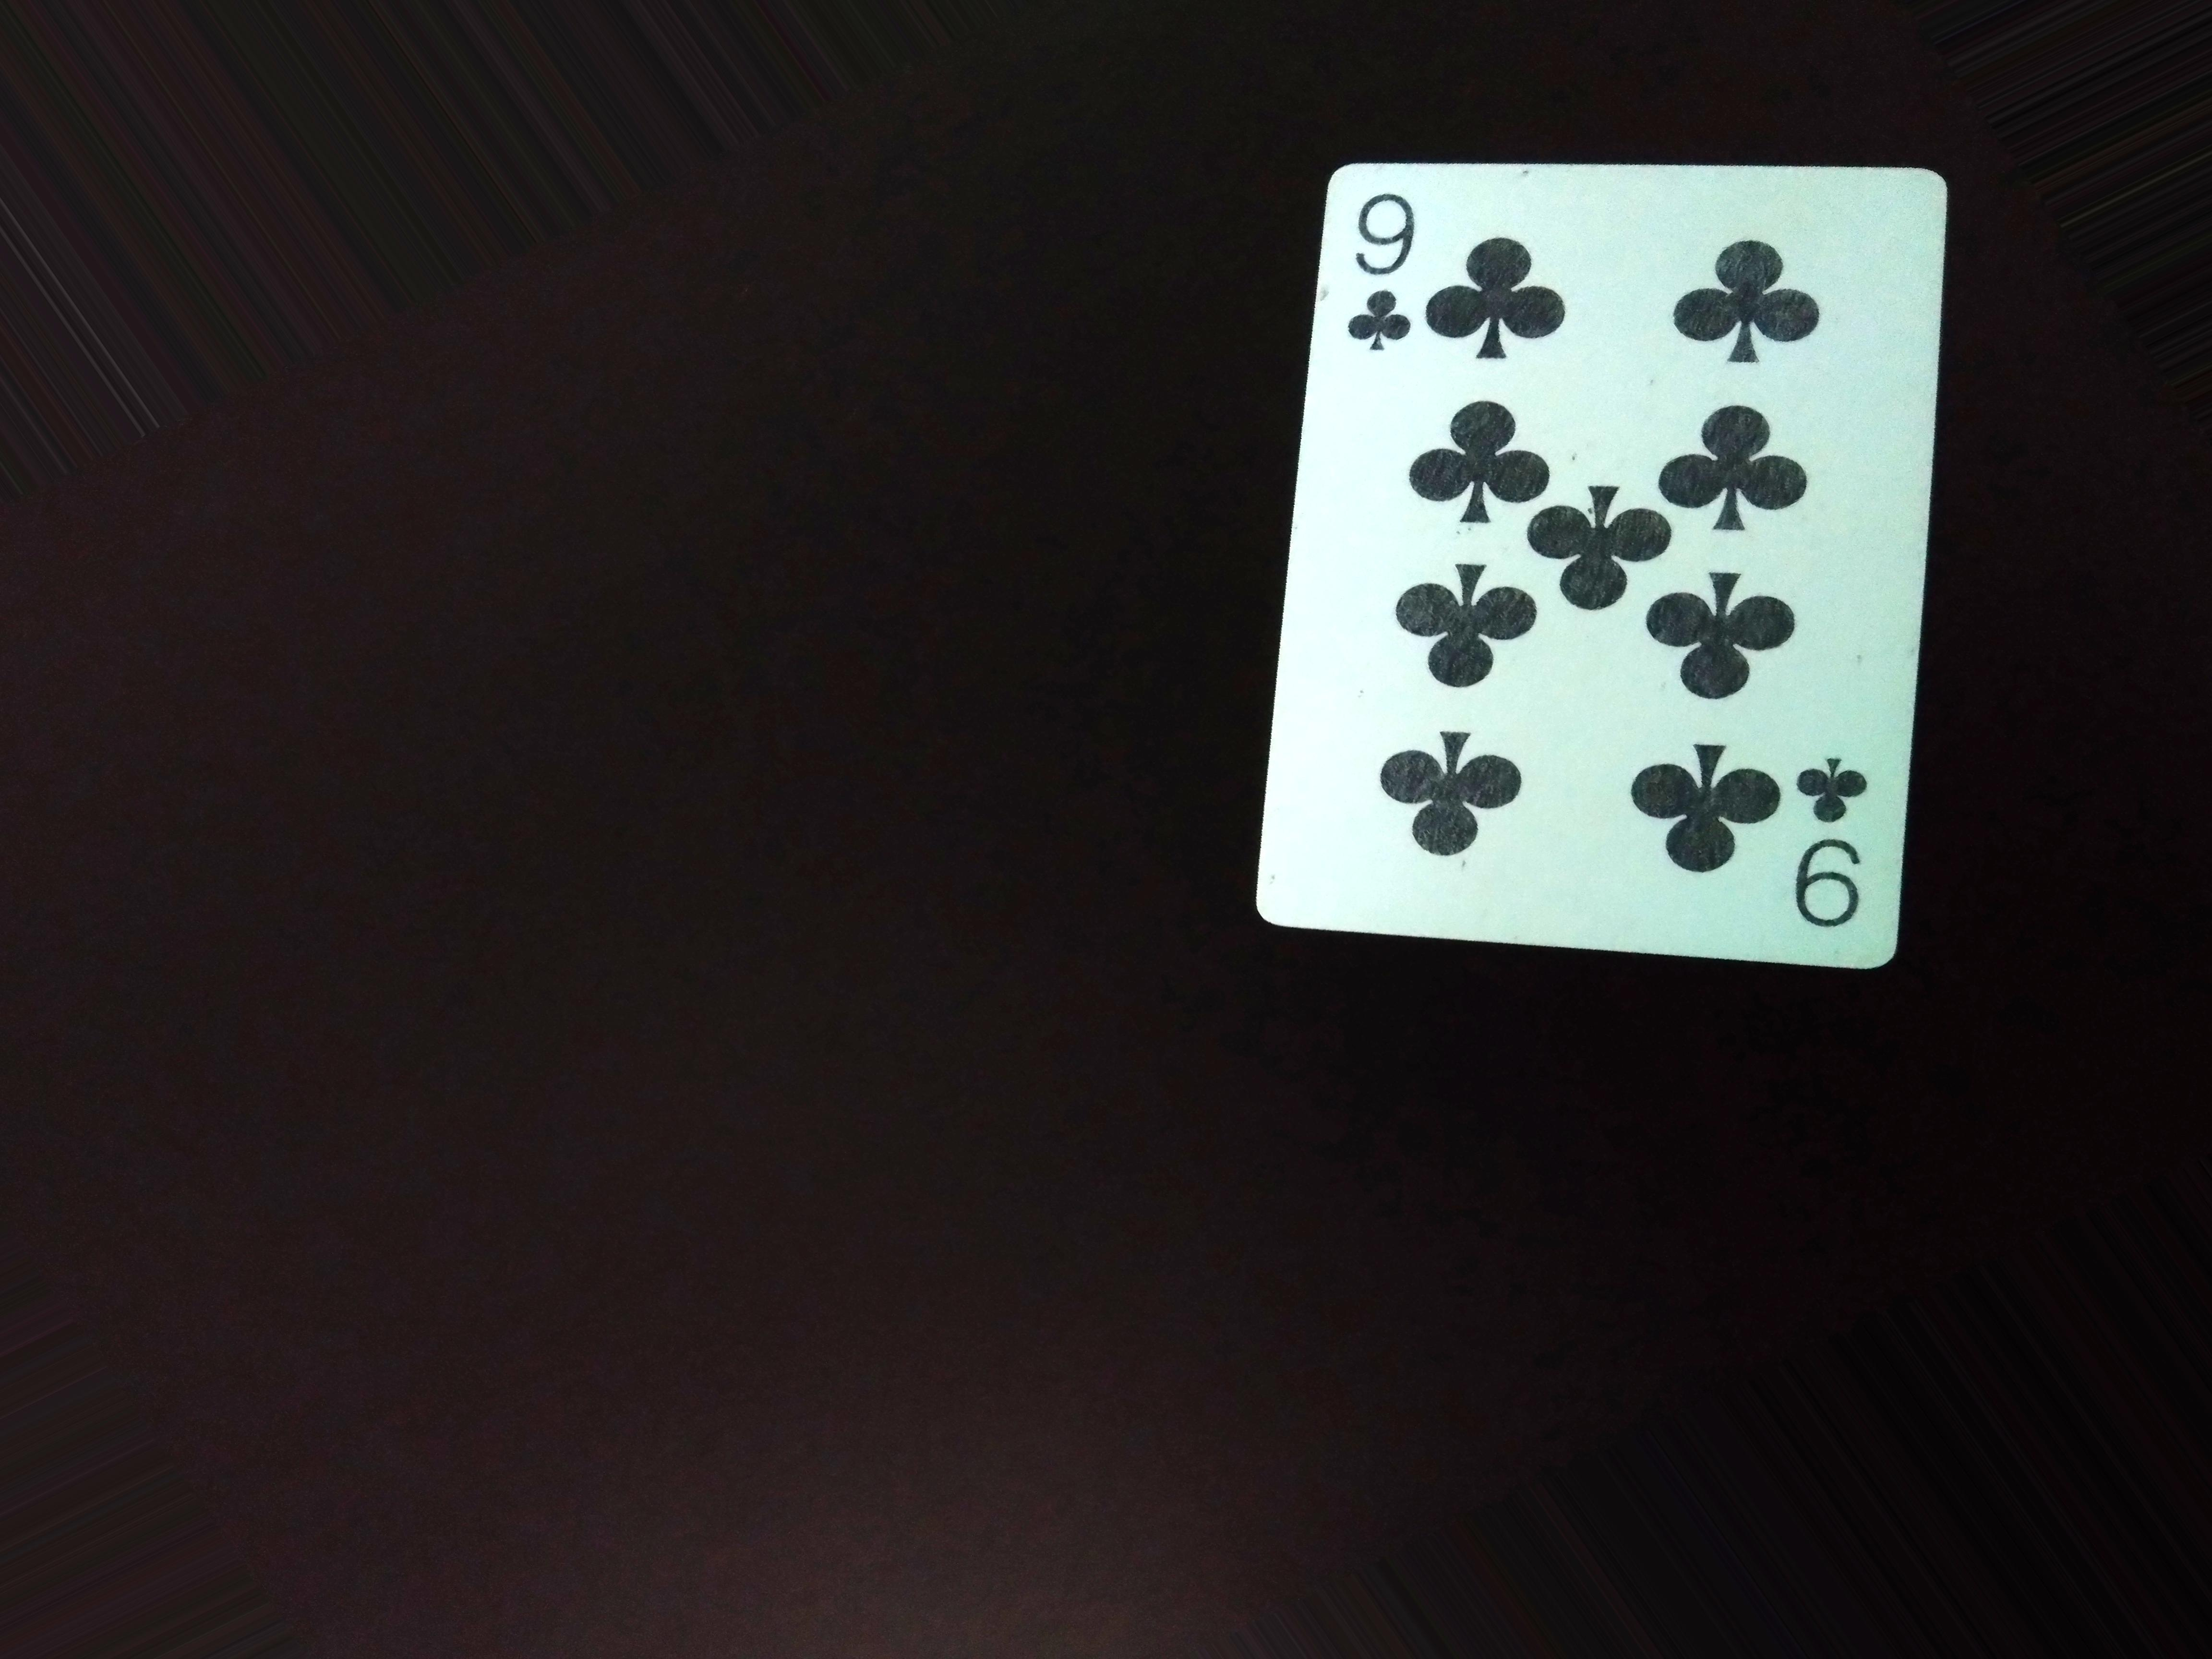9C: (1348, 167, 1418, 369)
